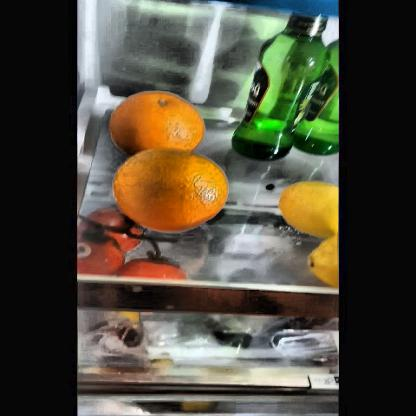lemon: (285, 182, 338, 233)
mineral_water: (236, 8, 332, 156)
orange: (113, 154, 229, 228), (110, 92, 208, 155)
